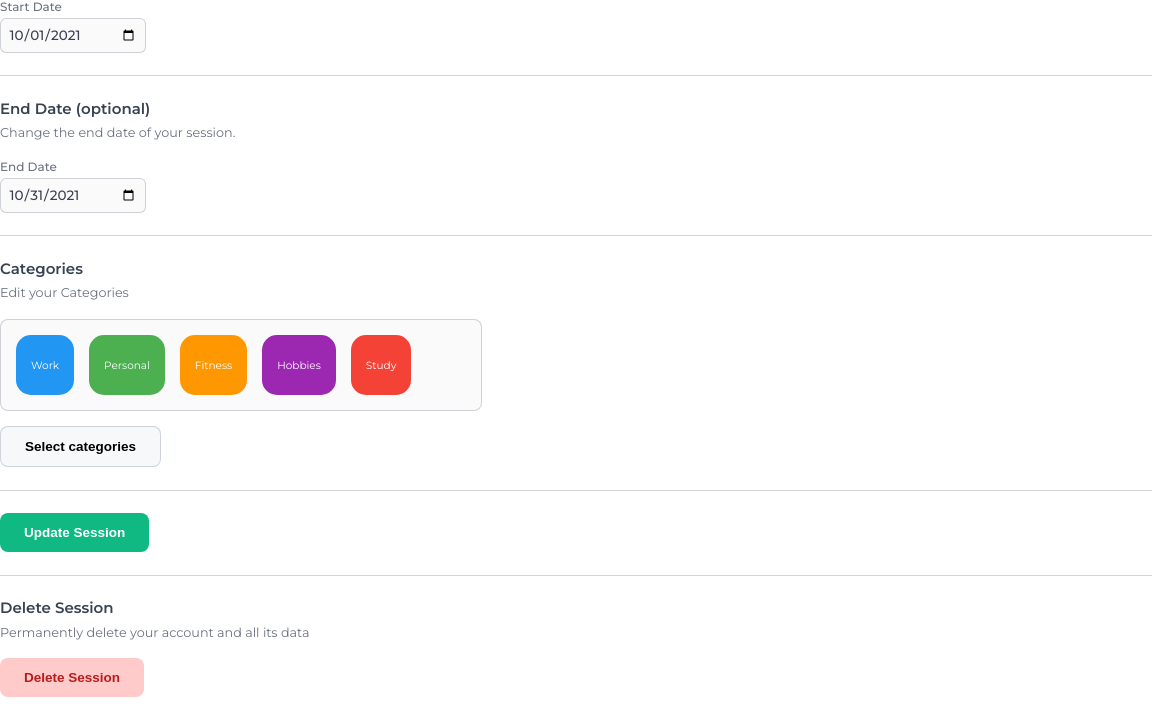
it: SessionSettings Component › Session Deletion Functionality › should show warning before deleting session
(page scrolled)
Click the button "Delete Session". click: (72, 678)
box: [0,658,144,697]
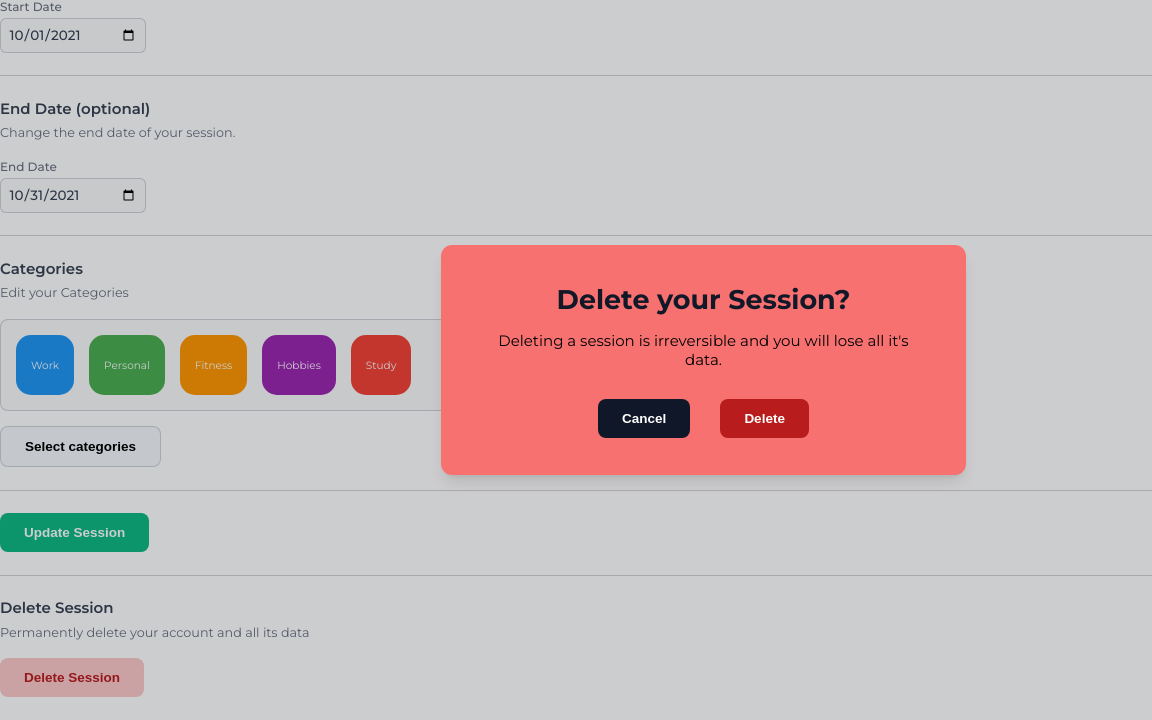
Check: the heading "Delete your Session?" is shown, box [557,282,850,316]
Click the button "Cancel". click: (644, 418)
box: [598,398,690,438]
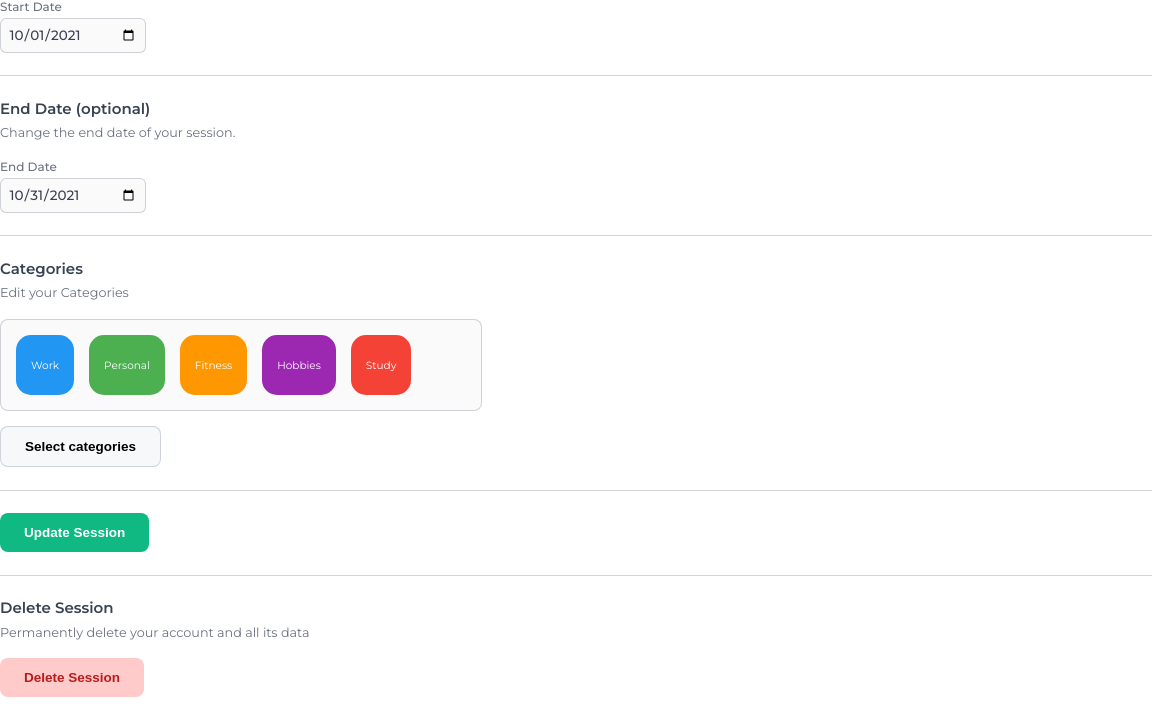
Check: the heading "Delete your Session" is gone
